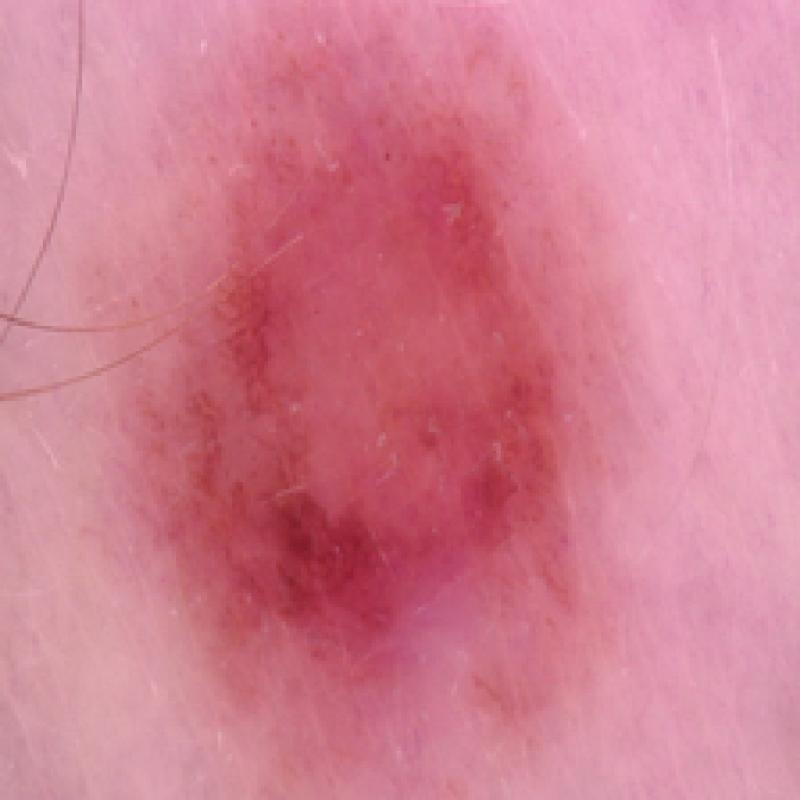benign: (115, 25, 610, 708)
